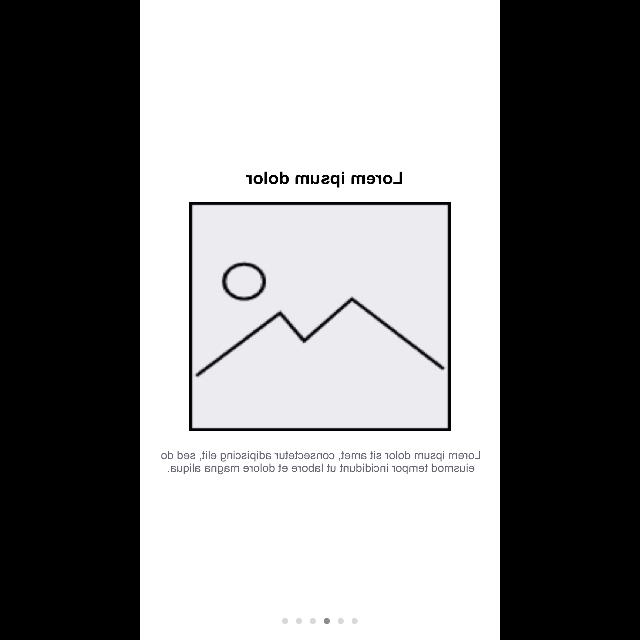image: (188, 202, 452, 432)
pageindicator: (282, 618, 358, 624)
text: (160, 450, 480, 474), (245, 172, 402, 188)
